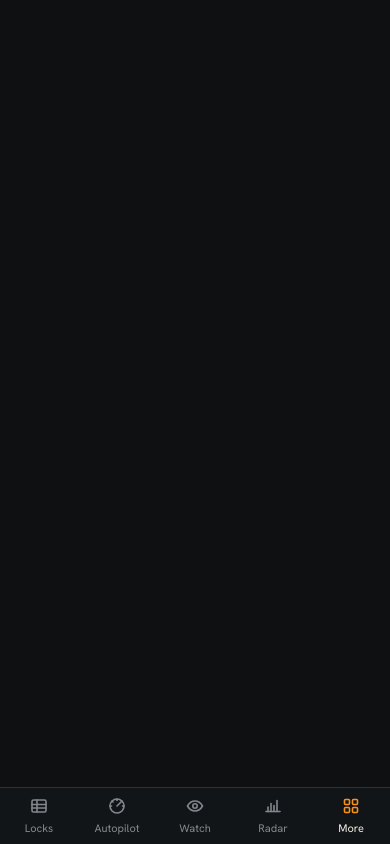
Scenario: MobileNav › marks More active when route is in the sheet and closes on select
The width and height of the screenshot is (390, 844).
Step 1. Click the button "More" → (351, 816), box [312, 788, 389, 843]
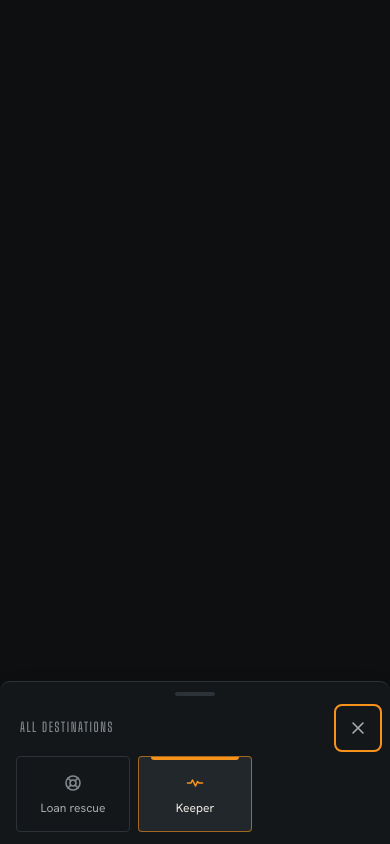
Step 2. Click the link "Keeper" → (195, 794), box [138, 756, 252, 832]
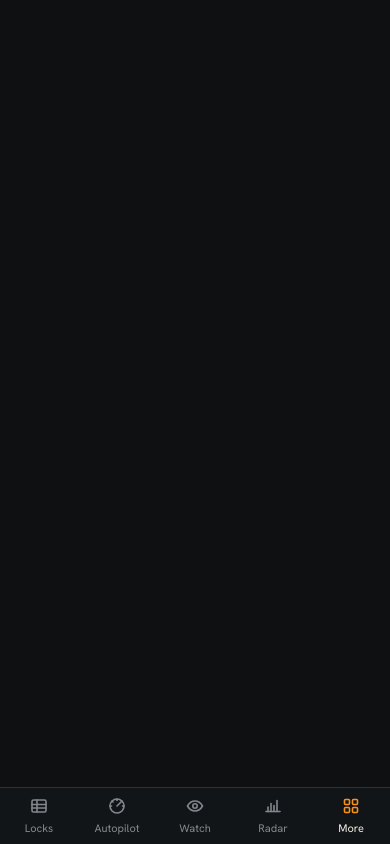
Expected: the button "More" is collapsed, [312, 788, 389, 843]
